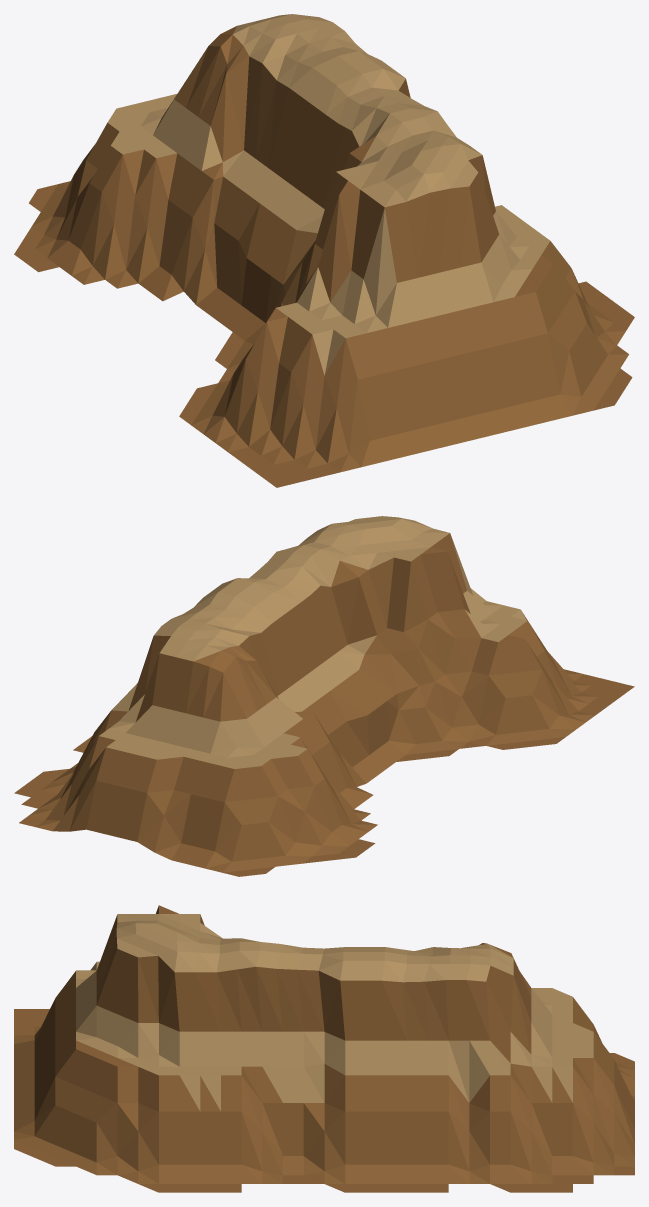
3 views of the same model, one above another, from view 1: azimuth 30°, elevation 25°; view 2: azimuth 150°, elevation 25°; view 3: azimuth 270°, elevation 25° (orthographic). The views are drawn at different scales.
Visible parts, largest first — view 1: Mountain; view 2: Mountain; view 3: Mountain.
Part boxes in pixels (left/top/right/bottom): Mountain: left=14, top=14, right=634, bottom=487; Mountain: left=14, top=516, right=634, bottom=876; Mountain: left=14, top=905, right=634, bottom=1192.
Size of the model in its own units: 394 by 176 by 563.
